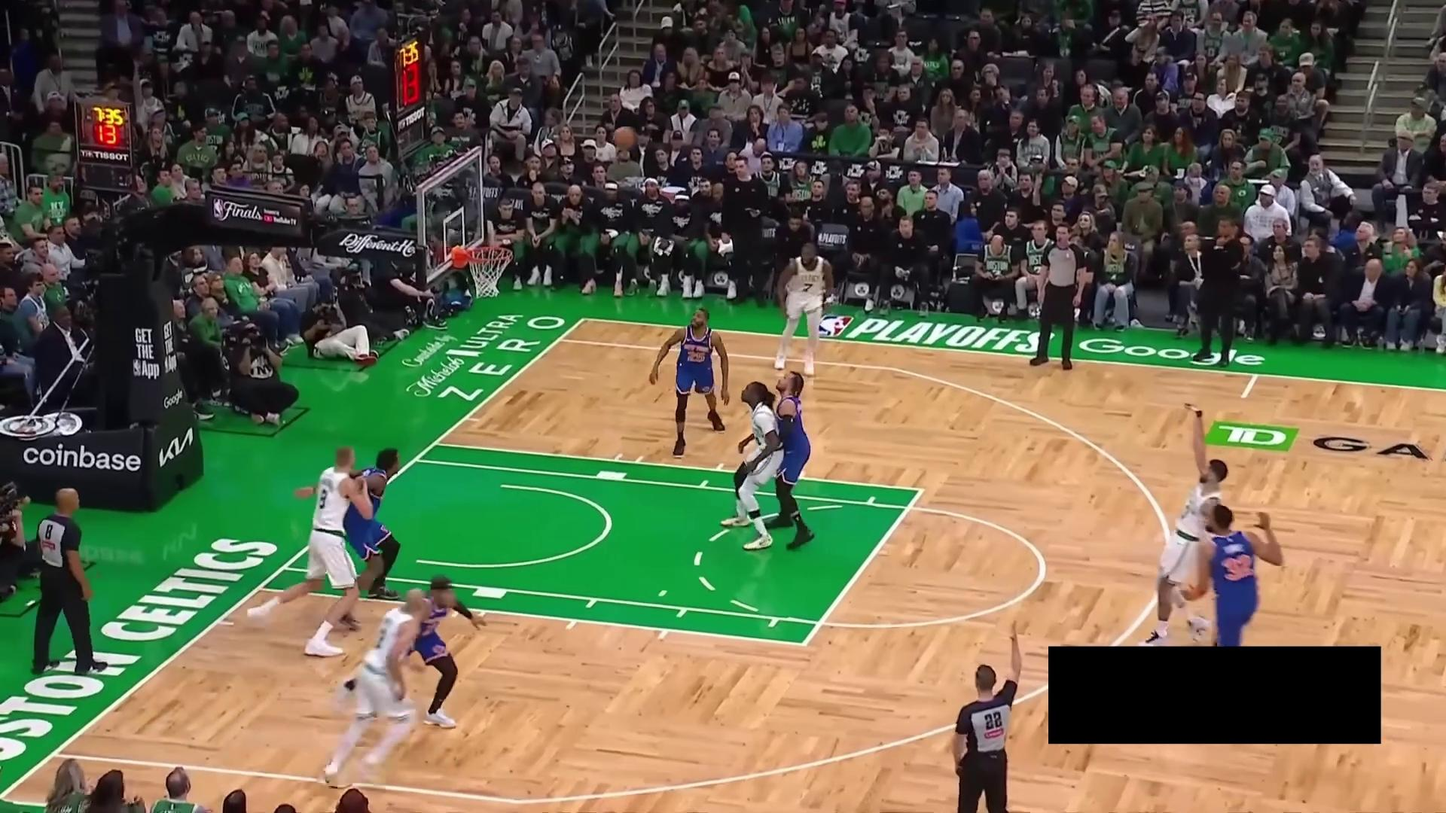ball: (612, 126, 637, 151)
number: (1222, 553, 1255, 582), (687, 349, 706, 364), (318, 489, 328, 510), (802, 281, 814, 293)
player: (248, 445, 380, 658), (335, 574, 490, 726), (1138, 401, 1231, 646), (319, 583, 428, 791), (1179, 505, 1284, 646), (648, 306, 730, 458), (332, 446, 404, 612), (720, 381, 786, 552), (762, 370, 816, 554), (772, 240, 836, 377)
referee: (29, 487, 109, 676), (950, 619, 1023, 813), (1028, 221, 1090, 371)
rim: (466, 245, 514, 263)
